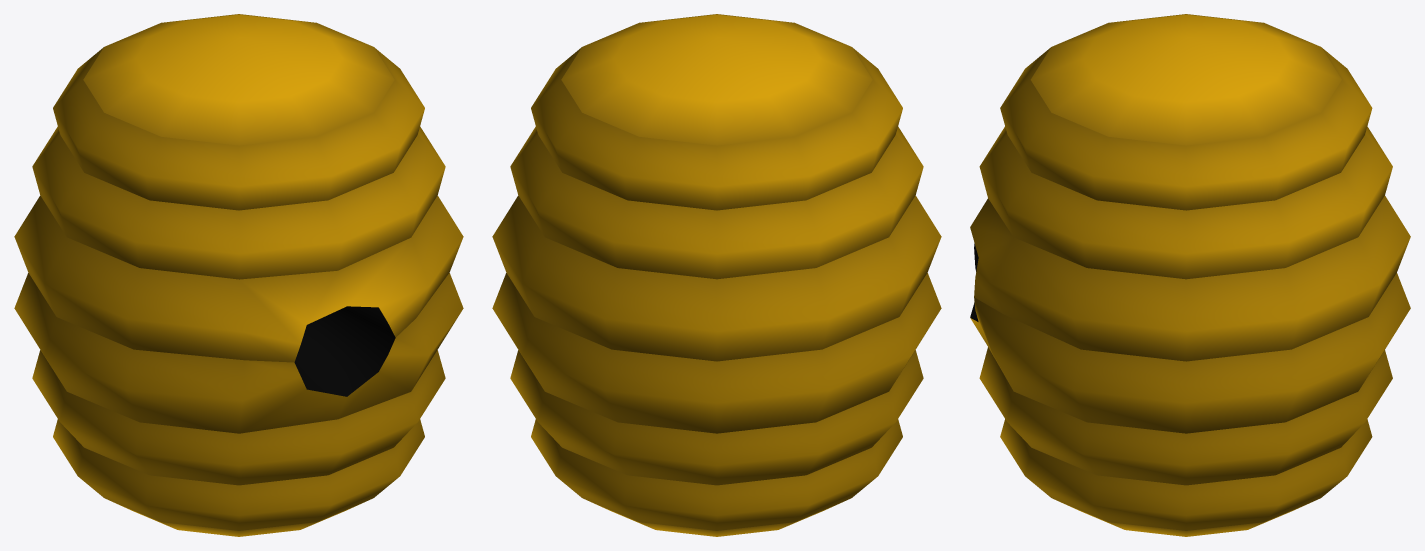
File: CenarioFase1.fbx_colmeia.fbx
3 renders of one model, left to right at view 1: azimuth 30°, elevation 25°; view 2: azimuth 150°, elevation 25°; view 3: azimuth 270°, elevation 25°, orthographic.
Visible parts, largest first — view 1: Colmeia; view 2: Colmeia; view 3: Colmeia.
Boxes of the visible parts, x1,y1,x2,y2 form: Colmeia: [14, 14, 463, 536]; Colmeia: [492, 14, 941, 536]; Colmeia: [970, 14, 1410, 536].
Size of the model in its own units: 316 by 361 by 310.
